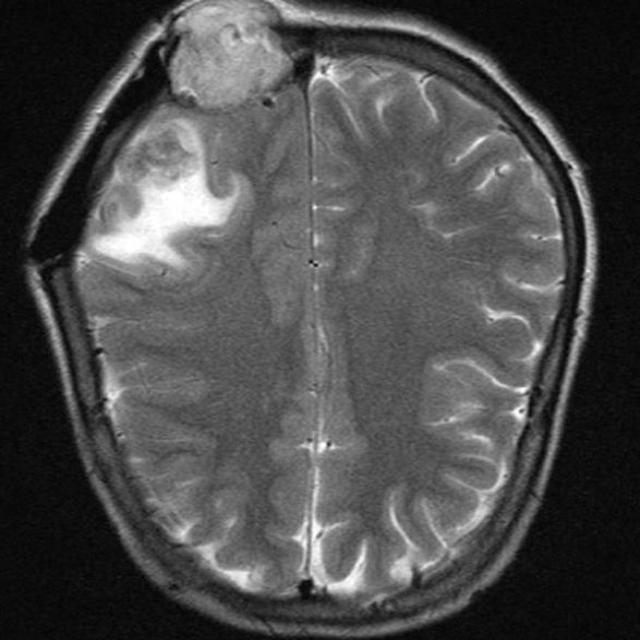brain tumor: (83, 110, 232, 271)
